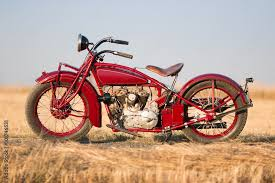motorcycle: (23, 34, 256, 146)
